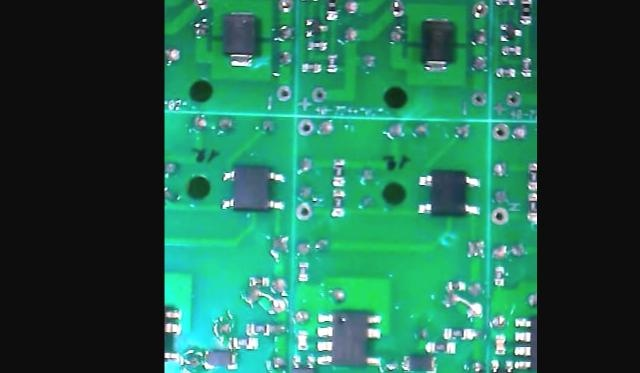chip-capacitor: (296, 328, 308, 350), (494, 333, 506, 355)
chip-resistor: (330, 187, 346, 218), (330, 156, 347, 185), (228, 335, 260, 349), (245, 321, 272, 336), (424, 340, 452, 353), (526, 191, 538, 221), (526, 161, 538, 190), (443, 326, 469, 339), (518, 0, 532, 24), (324, 0, 340, 20), (248, 273, 271, 286), (305, 37, 328, 50), (325, 52, 339, 73), (297, 259, 310, 281), (301, 60, 323, 73), (495, 65, 517, 77), (520, 55, 532, 77), (501, 43, 523, 55), (493, 264, 505, 285), (446, 279, 466, 290), (494, 0, 516, 5)
diode: (221, 9, 259, 68), (419, 14, 457, 72), (203, 347, 239, 370), (400, 353, 437, 372)
ic: (315, 307, 384, 366), (219, 163, 288, 212), (416, 166, 481, 217), (290, 351, 317, 373), (489, 356, 515, 373)
transistor: (499, 21, 523, 41), (304, 17, 328, 37)
